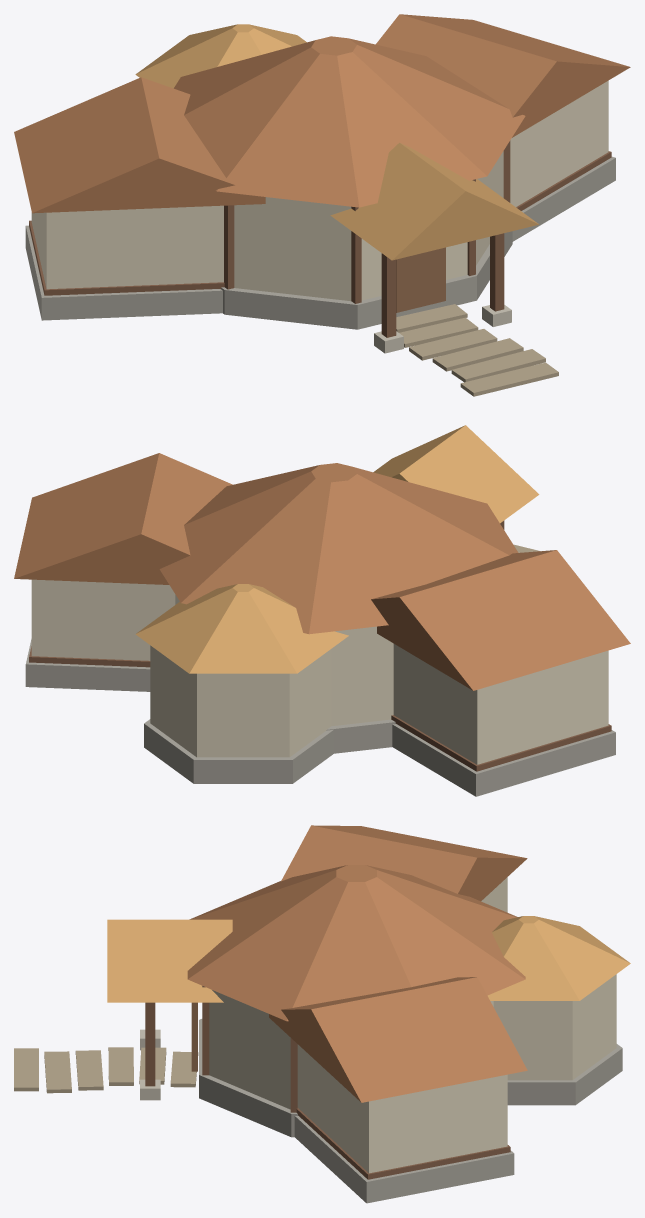
File: A_compass_court.glb
3 views of the same model, one above another, from view 1: azimuth 30°, elevation 25°; view 2: azimuth 150°, elevation 25°; view 3: azimuth 270°, elevation 25° (orthographic). The views are drawn at different scales.
Visible parts, largest first — view 1: A_CentralChartHall_HippedRoof, A_RecordsWing_GableRoof, A_RecordsWing_Plaster, A_CentralChartHall_Plaster, A_ProvisionWing_GableRoof, A_EntryCrossGable, A_ProvisionWing_Plaster, A_CentralChartHall_StoneBase, A_RecordsWing_StoneBase, A_TeachingApse_Roof, A_Arrival_Door, A_ProvisionWing_StoneBase (+12 smaller); view 2: A_CentralChartHall_HippedRoof, A_RecordsWing_GableRoof, A_ProvisionWing_GableRoof, A_RecordsWing_Plaster, A_TeachingApse, A_TeachingApse_Roof, A_ProvisionWing_Plaster, A_EntryCrossGable, A_RecordsWing_StoneBase, A_CentralChartHall_Plaster, A_TeachingApse_Base, A_ProvisionWing_StoneBase (+3 smaller); view 3: A_CentralChartHall_HippedRoof, A_ProvisionWing_GableRoof, A_ProvisionWing_Plaster, A_RecordsWing_GableRoof, A_EntryCrossGable, A_TeachingApse, A_TeachingApse_Roof, A_CentralChartHall_Plaster, A_ProvisionWing_StoneBase, A_TeachingApse_Base, A_CentralChartHall_StoneBase, A_ProvisionWing_BaseBand (+9 smaller).
Boxes of the visible parts, left/top/right/bottom form: A_CentralChartHall_HippedRoof: left=174, top=36, right=525, bottom=207; A_RecordsWing_GableRoof: left=14, top=77, right=265, bottom=213; A_RecordsWing_Plaster: left=31, top=205, right=223, bottom=289; A_CentralChartHall_Plaster: left=234, top=151, right=503, bottom=301; A_ProvisionWing_GableRoof: left=376, top=14, right=630, bottom=137; A_EntryCrossGable: left=330, top=142, right=538, bottom=260; A_ProvisionWing_Plaster: left=510, top=80, right=608, bottom=206; A_CentralChartHall_StoneBase: left=221, top=231, right=512, bottom=329; A_RecordsWing_StoneBase: left=25, top=225, right=222, bottom=320; A_TeachingApse_Roof: left=135, top=24, right=306, bottom=88; A_Arrival_Door: left=396, top=247, right=445, bottom=312; A_ProvisionWing_StoneBase: left=512, top=156, right=615, bottom=241; A_CentralChartHall_HippedRoof: left=159, top=463, right=518, bottom=634; A_RecordsWing_GableRoof: left=371, top=550, right=630, bottom=690; A_ProvisionWing_GableRoof: left=14, top=453, right=232, bottom=584; A_RecordsWing_Plaster: left=393, top=644, right=608, bottom=764; A_TeachingApse: left=150, top=645, right=331, bottom=757; A_TeachingApse_Roof: left=135, top=584, right=348, bottom=673; A_ProvisionWing_Plaster: left=31, top=579, right=175, bottom=660; A_EntryCrossGable: left=373, top=425, right=539, bottom=523; A_RecordsWing_StoneBase: left=392, top=724, right=615, bottom=796; A_CentralChartHall_Plaster: left=175, top=594, right=393, bottom=726; A_TeachingApse_Base: left=144, top=719, right=333, bottom=783; A_ProvisionWing_StoneBase: left=25, top=639, right=150, bottom=691; A_CentralChartHall_HippedRoof: left=187, top=865, right=525, bottom=1021; A_ProvisionWing_GableRoof: left=269, top=977, right=527, bottom=1102; A_ProvisionWing_Plaster: left=297, top=1044, right=507, bottom=1173; A_RecordsWing_GableRoof: left=281, top=825, right=527, bottom=901; A_EntryCrossGable: left=107, top=919, right=232, bottom=1002; A_TeachingApse: left=493, top=974, right=616, bottom=1080; A_TeachingApse_Roof: left=487, top=916, right=630, bottom=1000; A_CentralChartHall_Plaster: left=209, top=990, right=493, bottom=1109; A_ProvisionWing_StoneBase: left=294, top=1116, right=514, bottom=1203; A_TeachingApse_Base: left=507, top=1044, right=622, bottom=1105; A_CentralChartHall_StoneBase: left=199, top=1019, right=298, bottom=1137; A_ProvisionWing_BaseBand: left=296, top=1108, right=510, bottom=1179.
Bounding box in the file's own units: 18.26 × 6.07 × 17.2.
